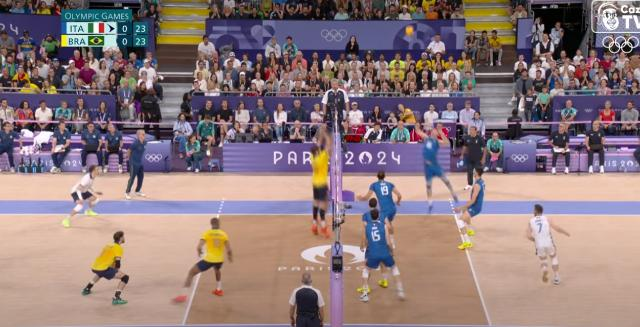Levantador: (87, 230, 127, 296)
Libero: (525, 203, 561, 283), (68, 164, 102, 221)
bola: (404, 26, 414, 36)
